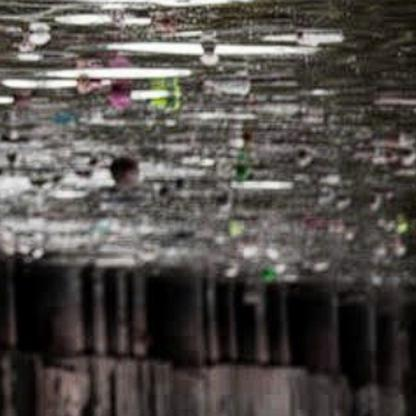Plastic: (202, 76, 252, 98), (21, 26, 59, 48), (198, 46, 221, 68)
